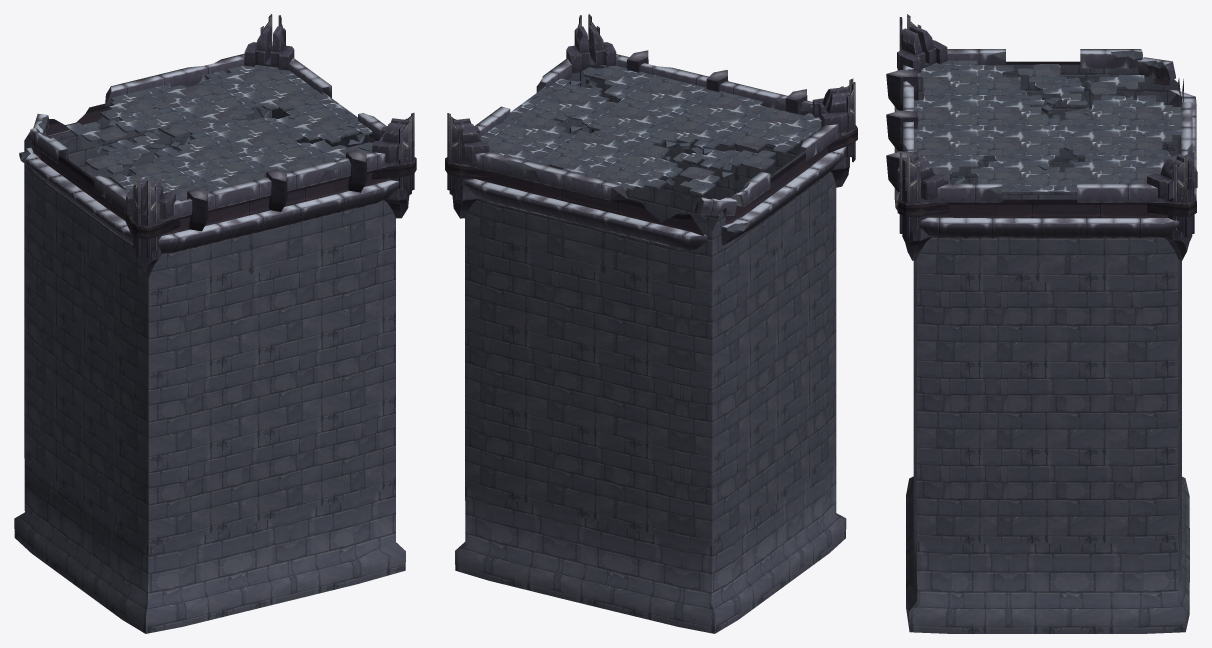
The model's file is Beidaying_yzqiang.FBX.
The picture shows the model from 3 angles, left to right: view 1: azimuth 30°, elevation 25°; view 2: azimuth 150°, elevation 25°; view 3: azimuth 270°, elevation 25°; orthographic projection. The views are drawn at different scales.
Visible parts, largest first — view 1: Bedaying_yzqiang, Bedaying_yzdi, Bedaying_shitou; view 2: Bedaying_yzqiang, Bedaying_yzdi, Bedaying_shitou; view 3: Bedaying_yzqiang, Bedaying_yzdi, Bedaying_shitou.
Boxes of the visible parts, bbox=[...] form: Bedaying_yzqiang: bbox=[14, 54, 405, 633]; Bedaying_yzdi: bbox=[66, 65, 373, 218]; Bedaying_shitou: bbox=[33, 14, 416, 280]; Bedaying_yzqiang: bbox=[455, 54, 846, 633]; Bedaying_yzdi: bbox=[480, 65, 821, 194]; Bedaying_shitou: bbox=[445, 14, 857, 235]; Bedaying_yzqiang: bbox=[894, 49, 1196, 633]; Bedaying_yzdi: bbox=[914, 60, 1181, 191]; Bedaying_shitou: bbox=[886, 14, 1197, 260].
Size of the model in its own units: 787 by 714 by 1216.
